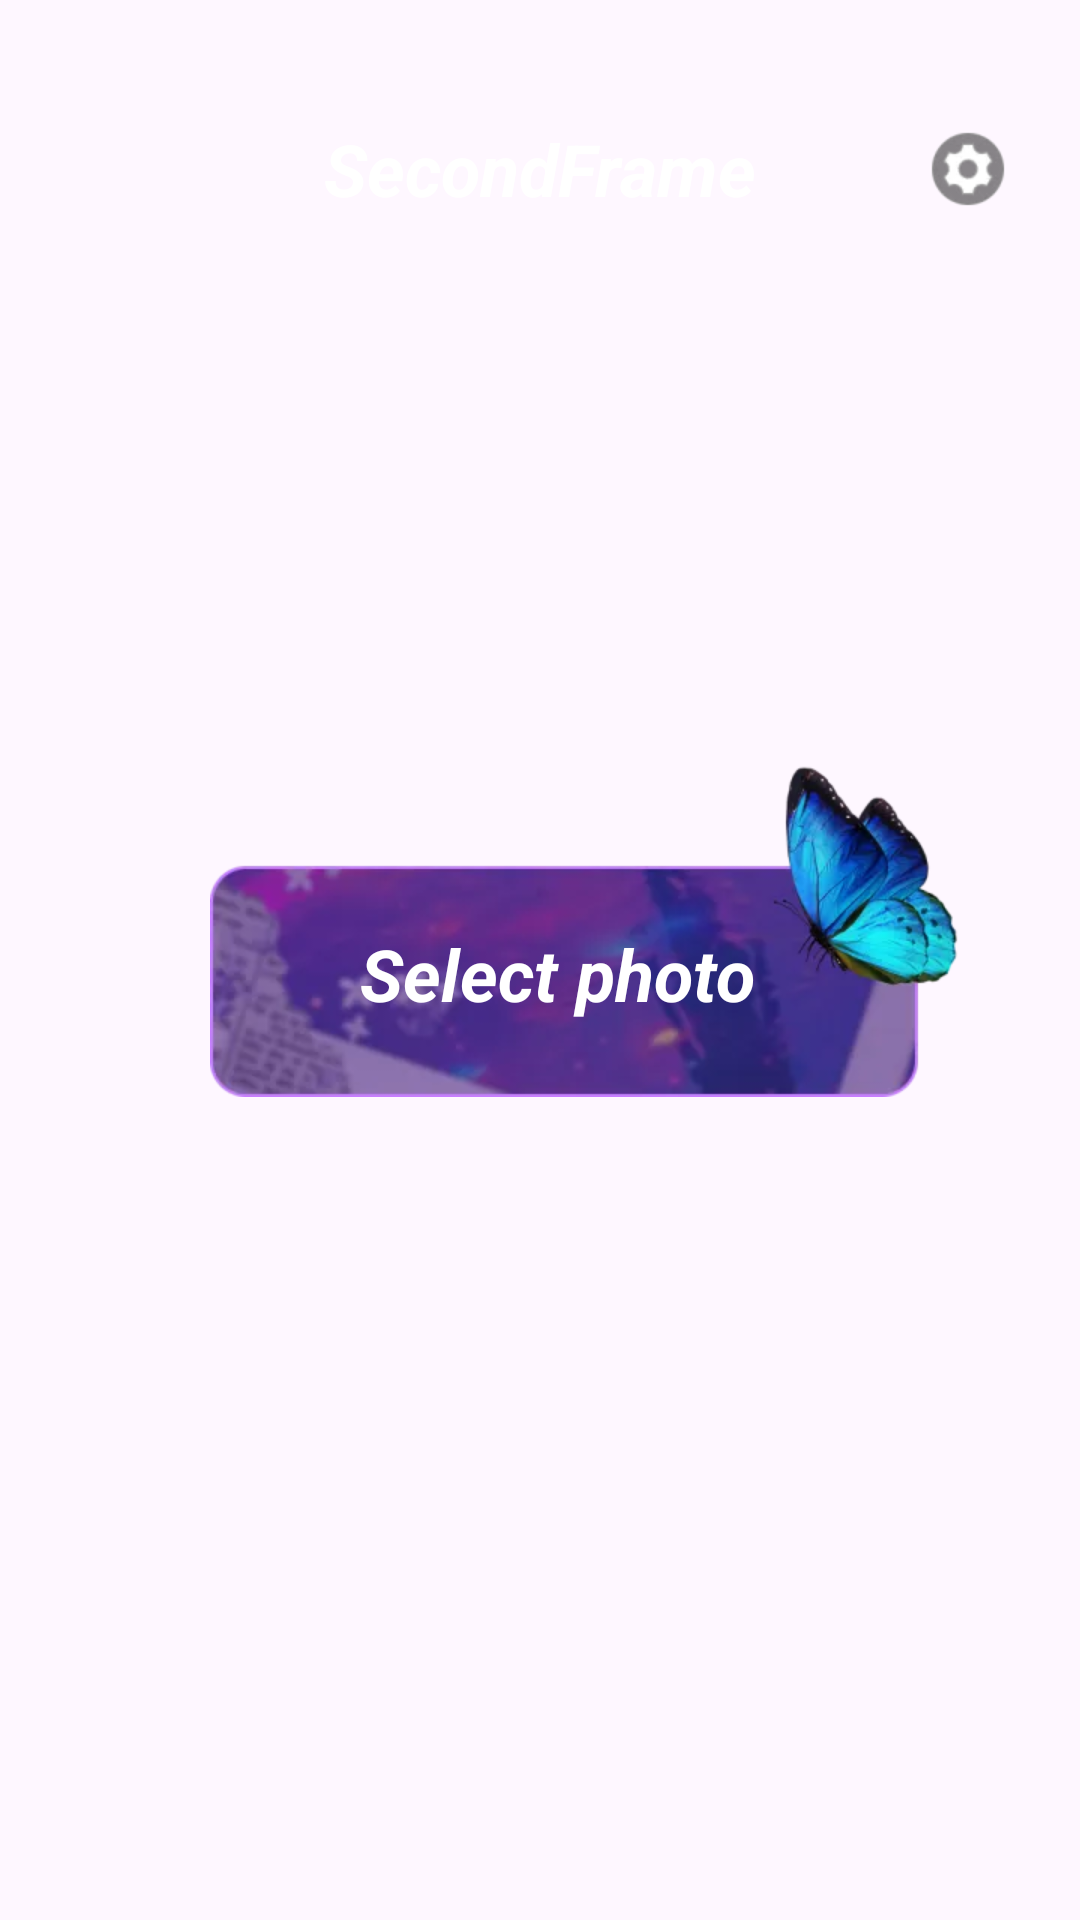

Point at icon controls on the screen. Image size 1080px×1920px, points as (x,y).
setting: (968,169)
